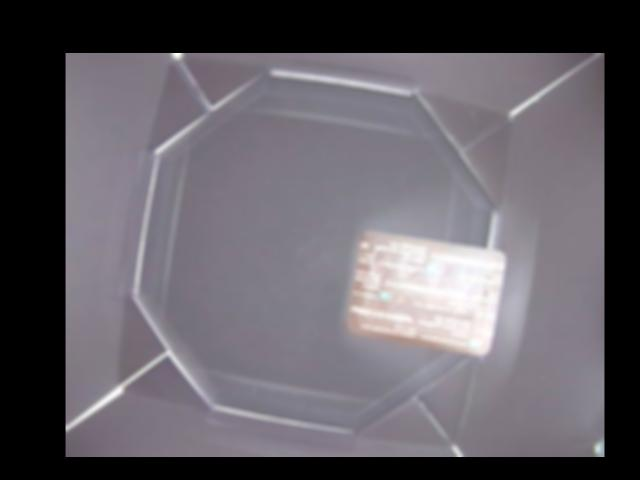Medicine: (346, 230, 507, 356)
